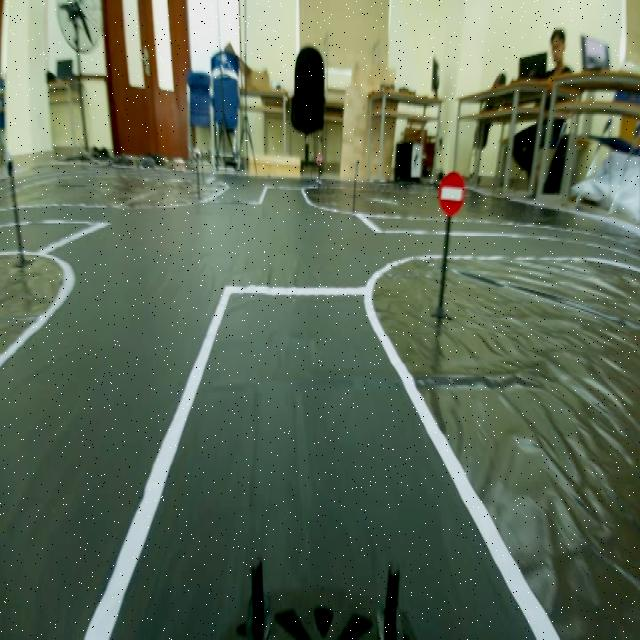no_entry: (434, 162, 468, 216)
